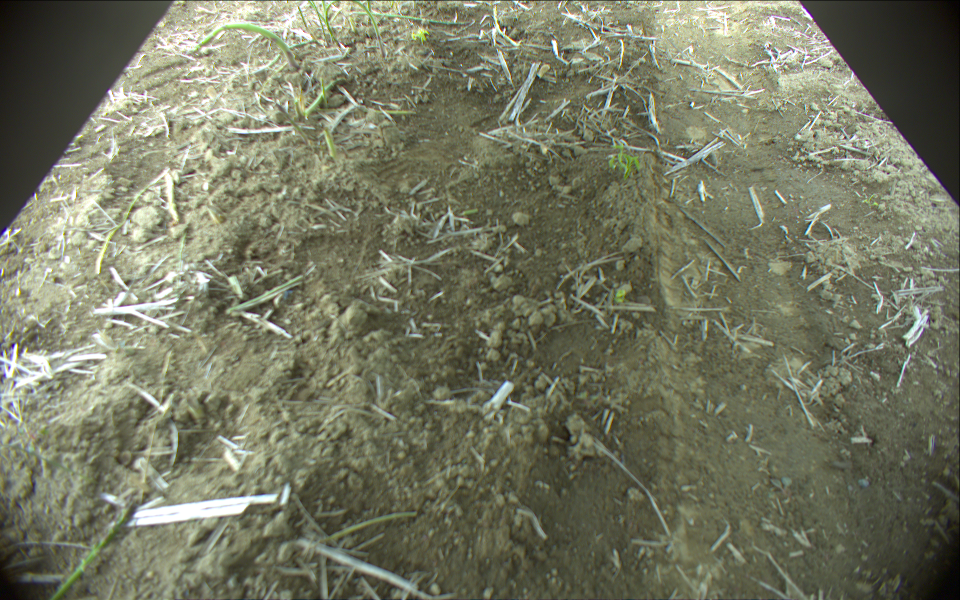aspa: (45, 503, 138, 600), (94, 169, 168, 277), (198, 23, 299, 70), (338, 85, 417, 116), (347, 8, 471, 26), (349, 1, 387, 53), (305, 77, 341, 114), (274, 105, 307, 145), (306, 1, 328, 43), (166, 166, 179, 225), (319, 1, 336, 43), (297, 7, 312, 35), (318, 77, 329, 111), (326, 127, 333, 155)
